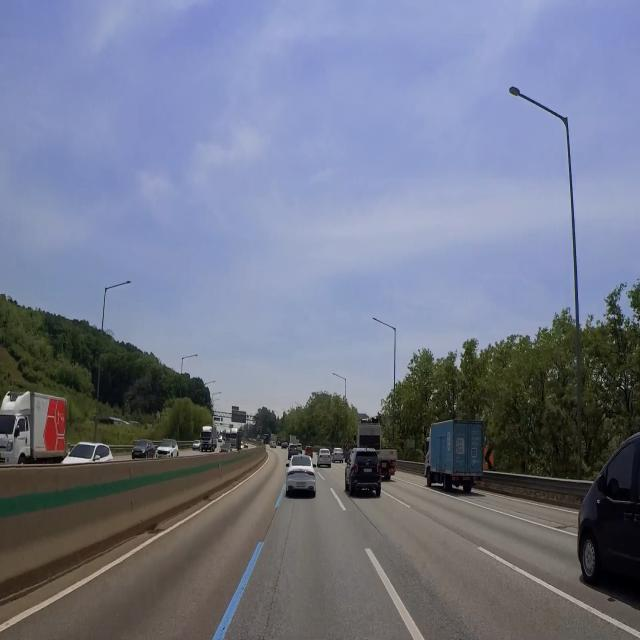car: (379, 458, 390, 478), (294, 479, 308, 494), (360, 465, 374, 478), (462, 472, 473, 488)
